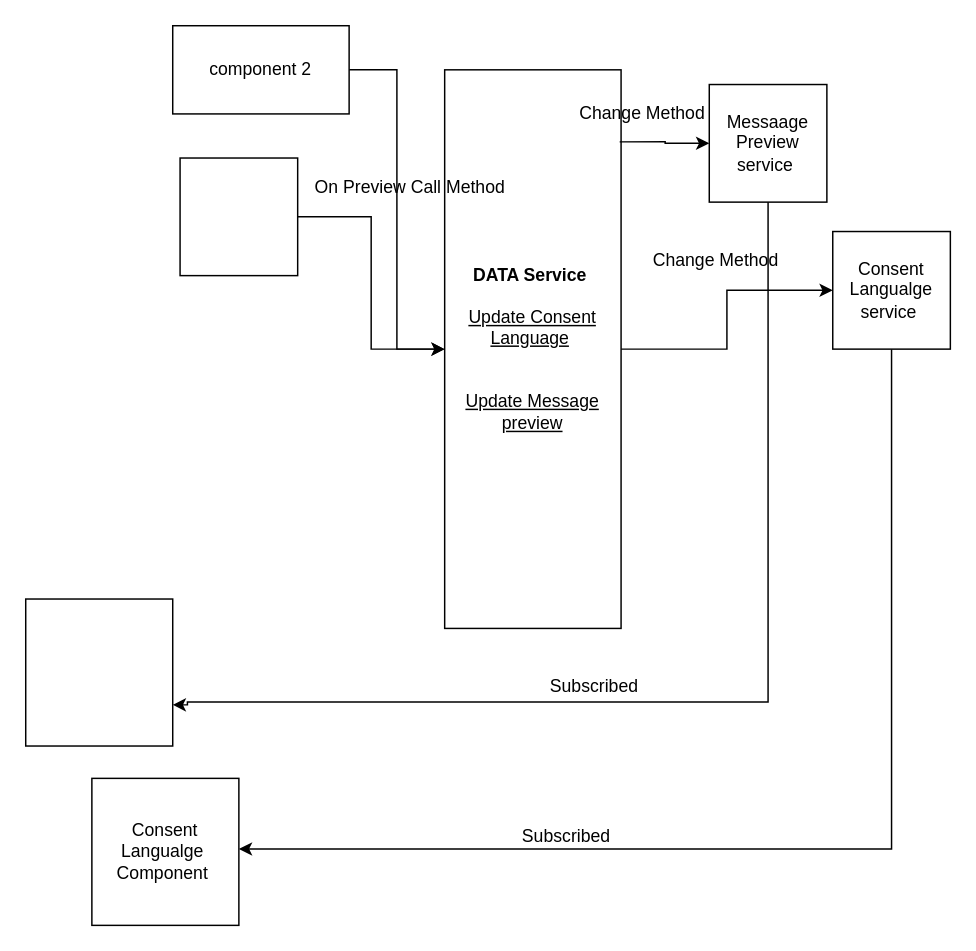
Image size: 976x951. Some labels were removed from this diagram. Here are the shapes that lost their labels. From the top down, the box of each, then its label:
(179, 157, 298, 276): Contact Component
(24, 598, 173, 746): Message Preview Component
